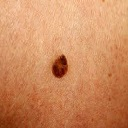Carcinoma: (49, 52, 70, 79)
